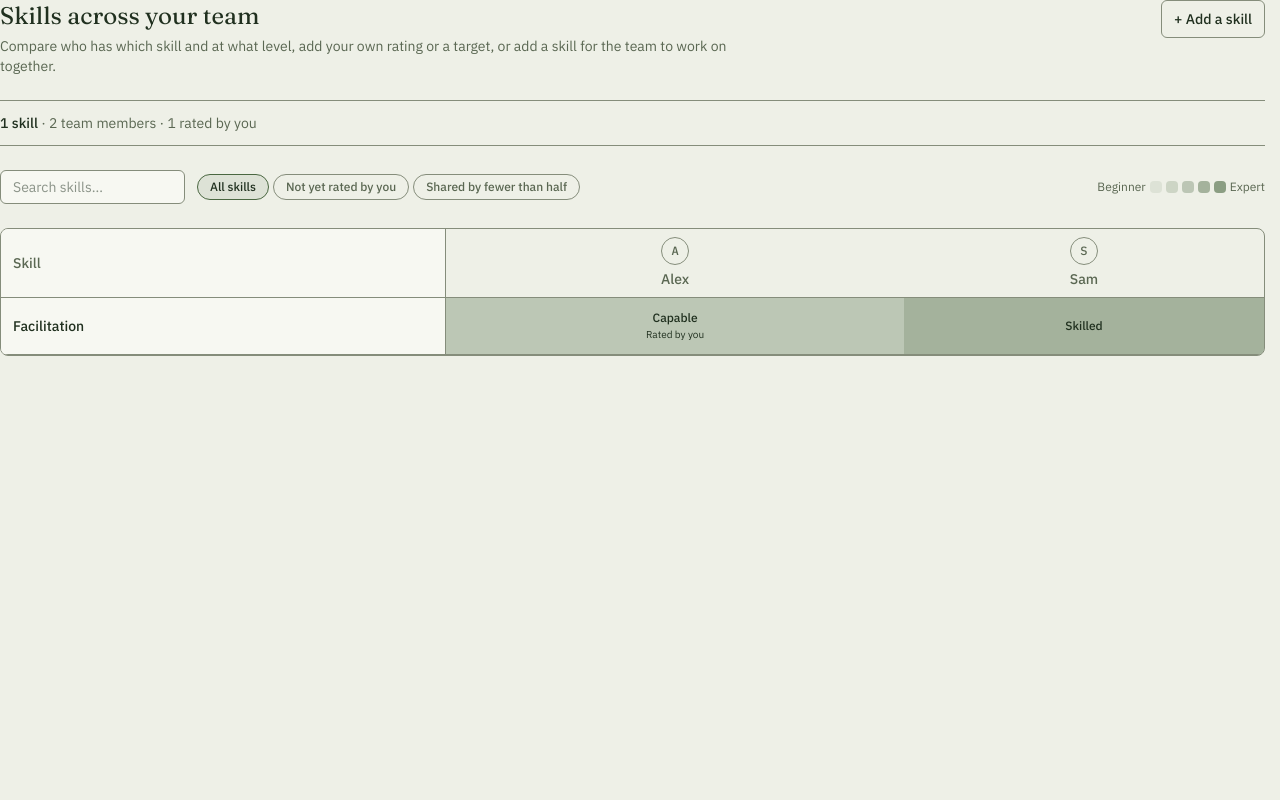
it: ManagerSkillsPanel › lets a leader add and suggest a skill to selected team members in one step, retrying only the ones that failed
The width and height of the screenshot is (1280, 800).
Click the button "+ Add a skill" at (1213, 19), box [1161,0,1265,38]
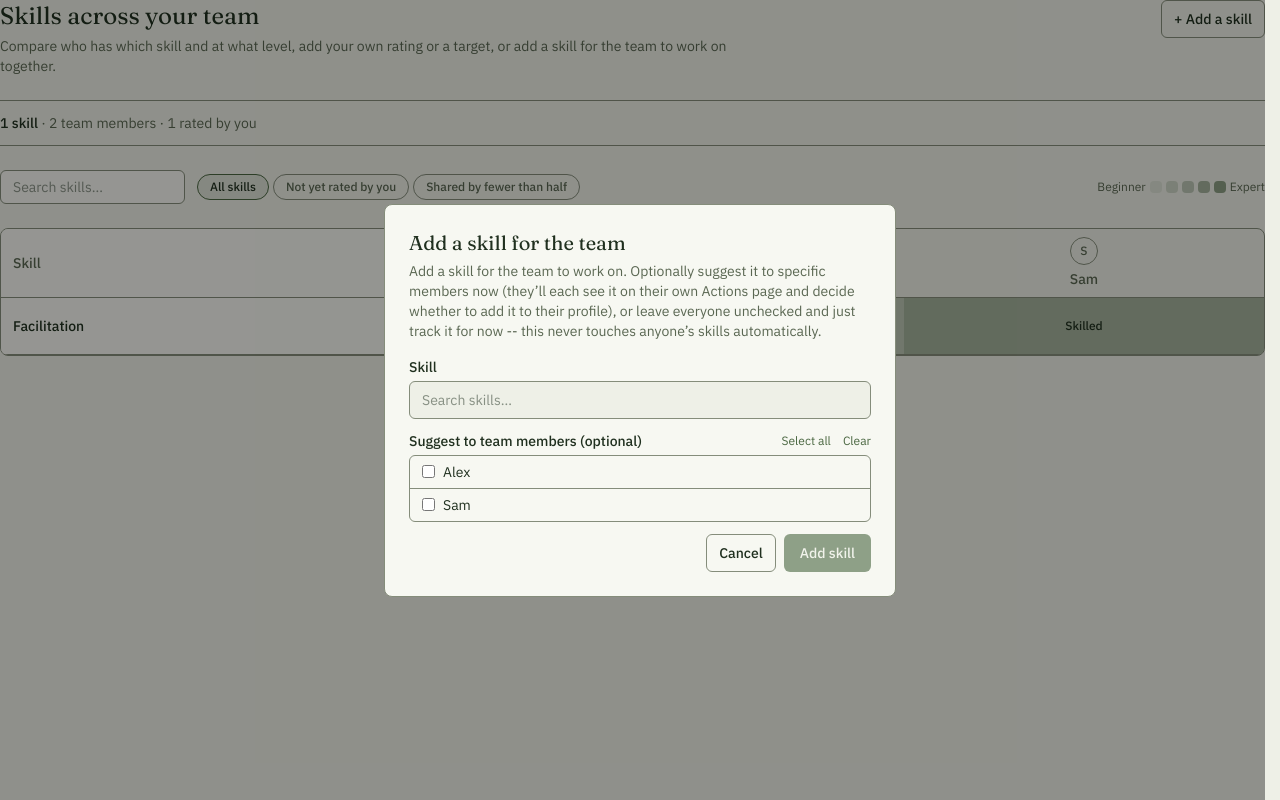
Type "Coach" into the field labelled "Skill" at (640, 400), box [409,380,871,418]
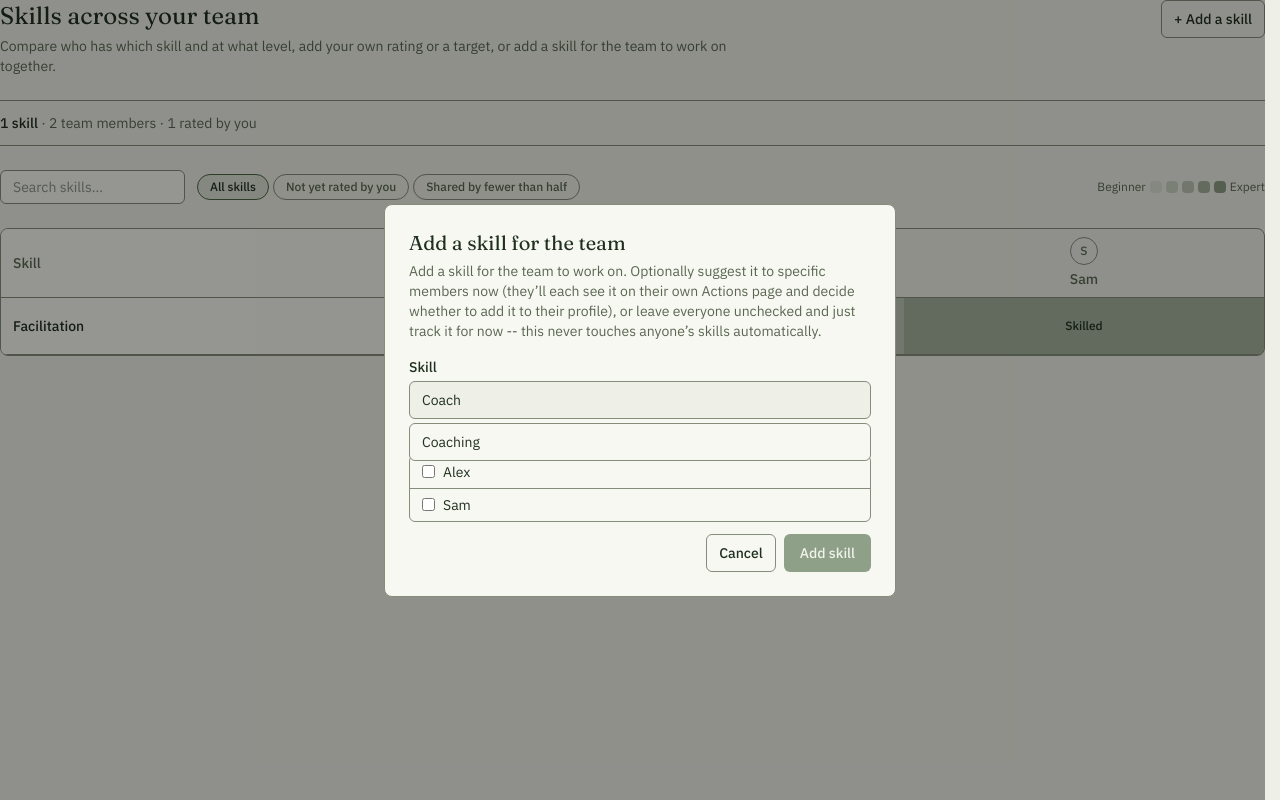
Click the button "Coaching" at (451, 442), box [410,424,870,460]
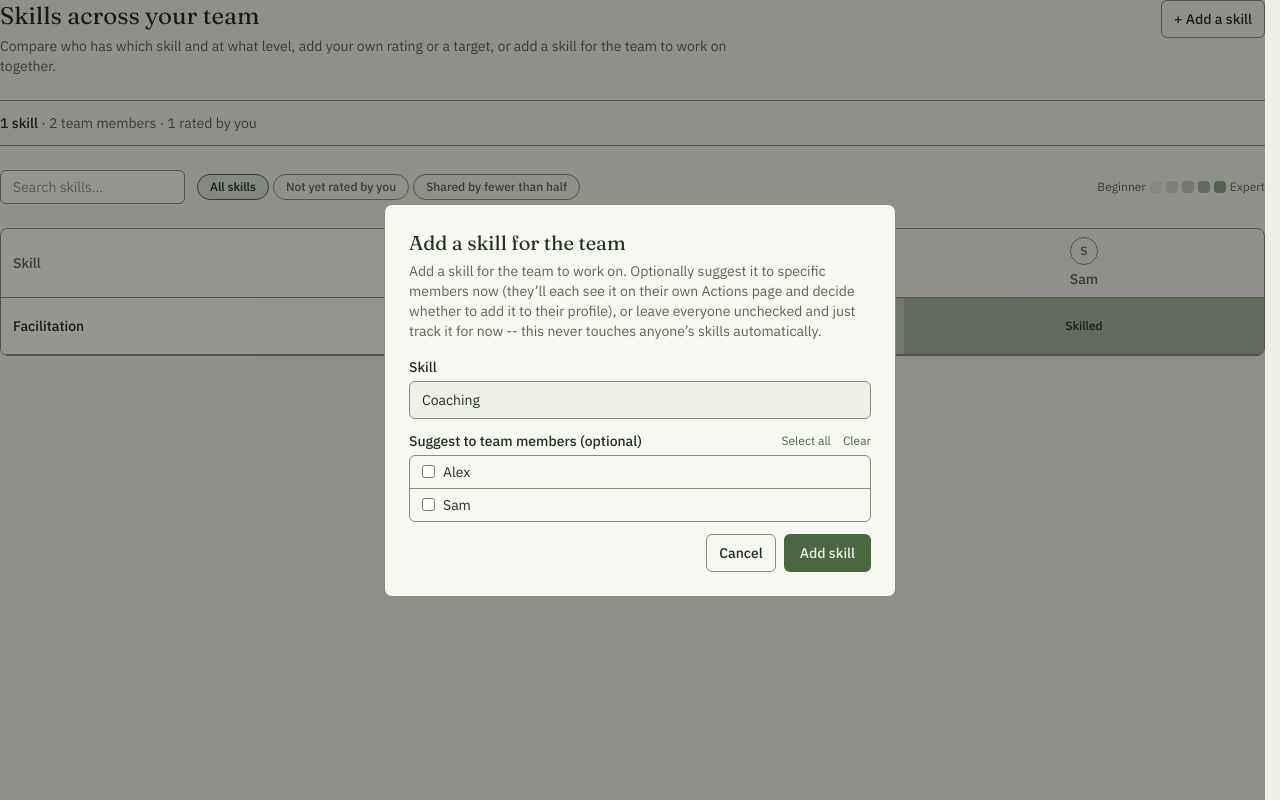
Click the button "Select all" at (806, 440), box [782,432,831,448]
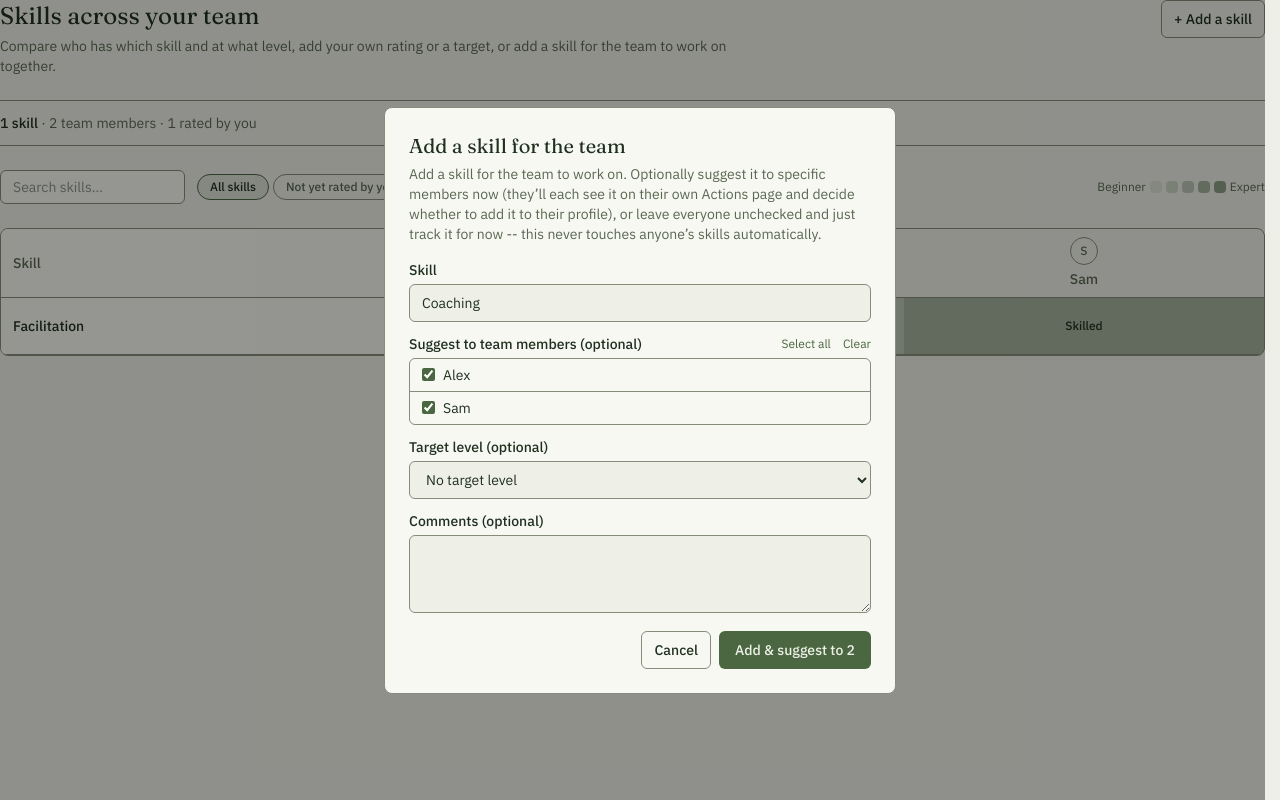
Click the button "Add & suggest to 2" at (795, 650), box [719,630,871,668]
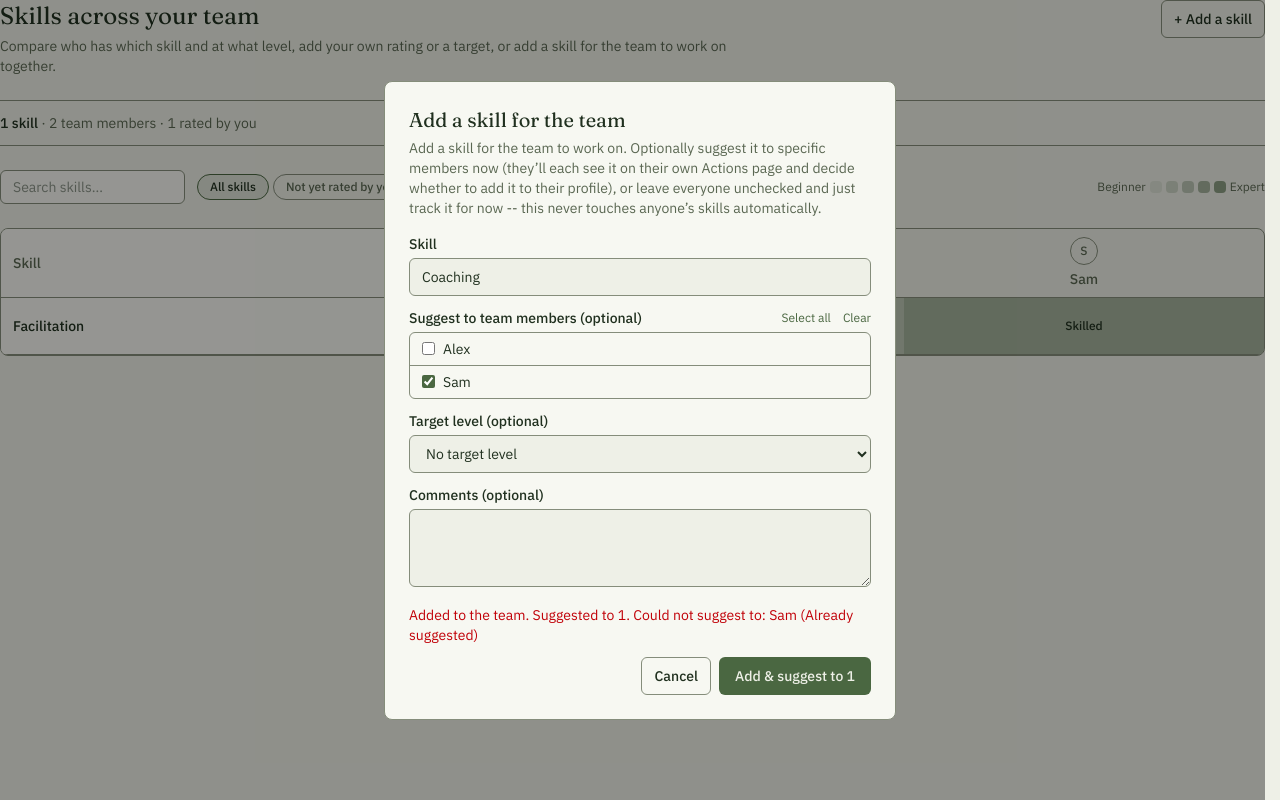
Expected: the checkbox labelled "Sam" is checked, [422,375,435,388]
Expected: the message shows "Sam", [409,606,853,644]
Expected: the checkbox labelled "Alex" is not checked, [422,342,435,355]
